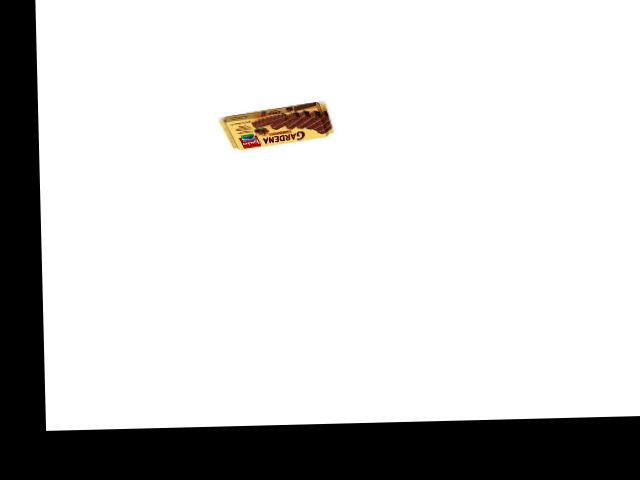chocolate: (215, 106, 339, 152)
